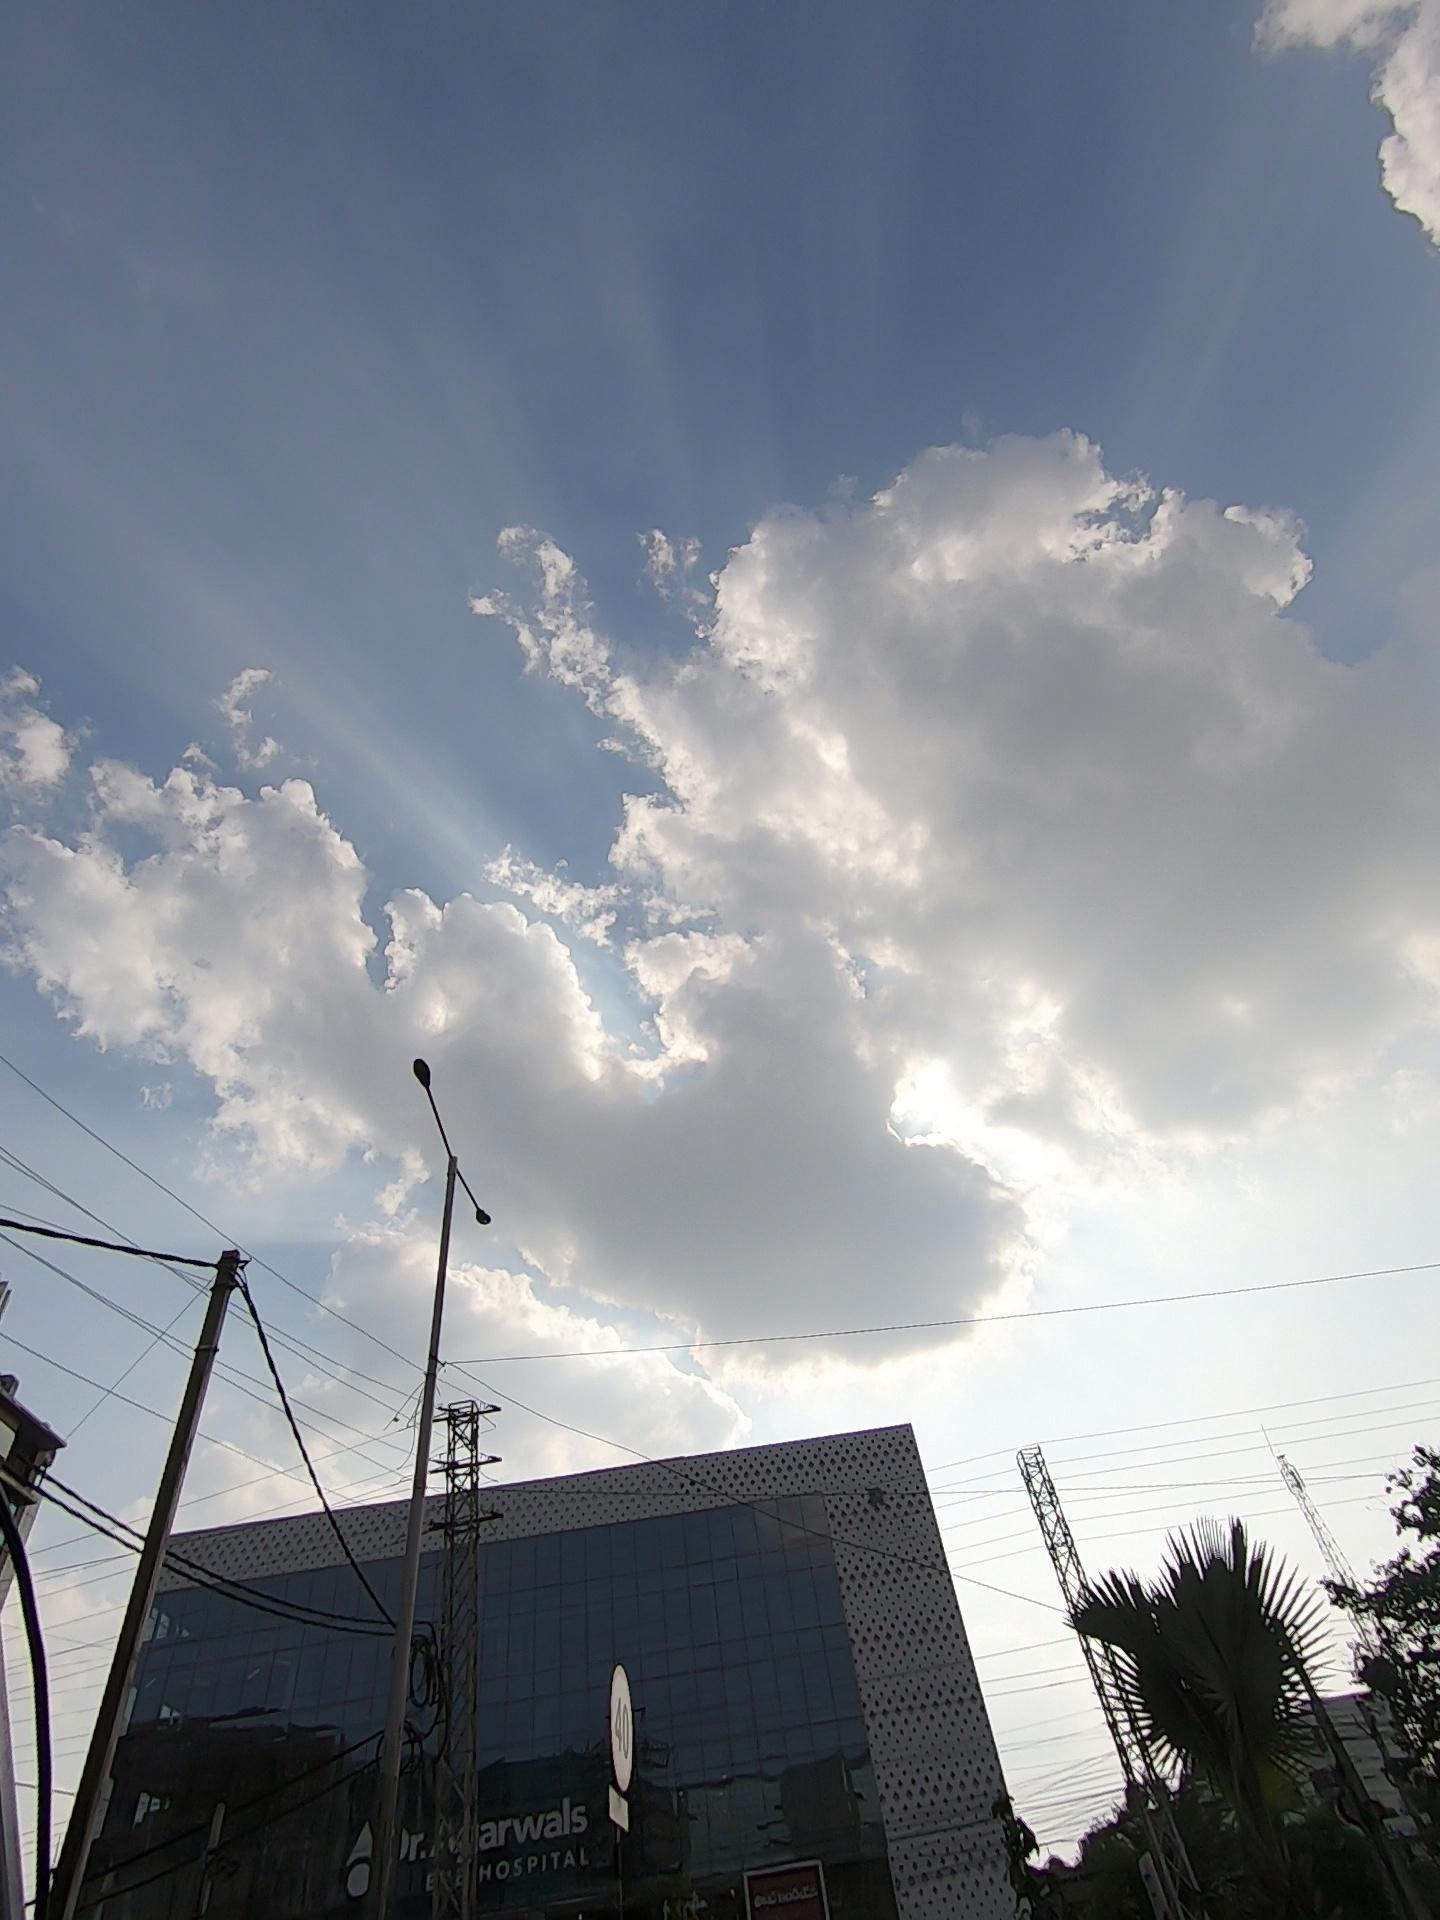off: (395, 1036, 531, 1303)
